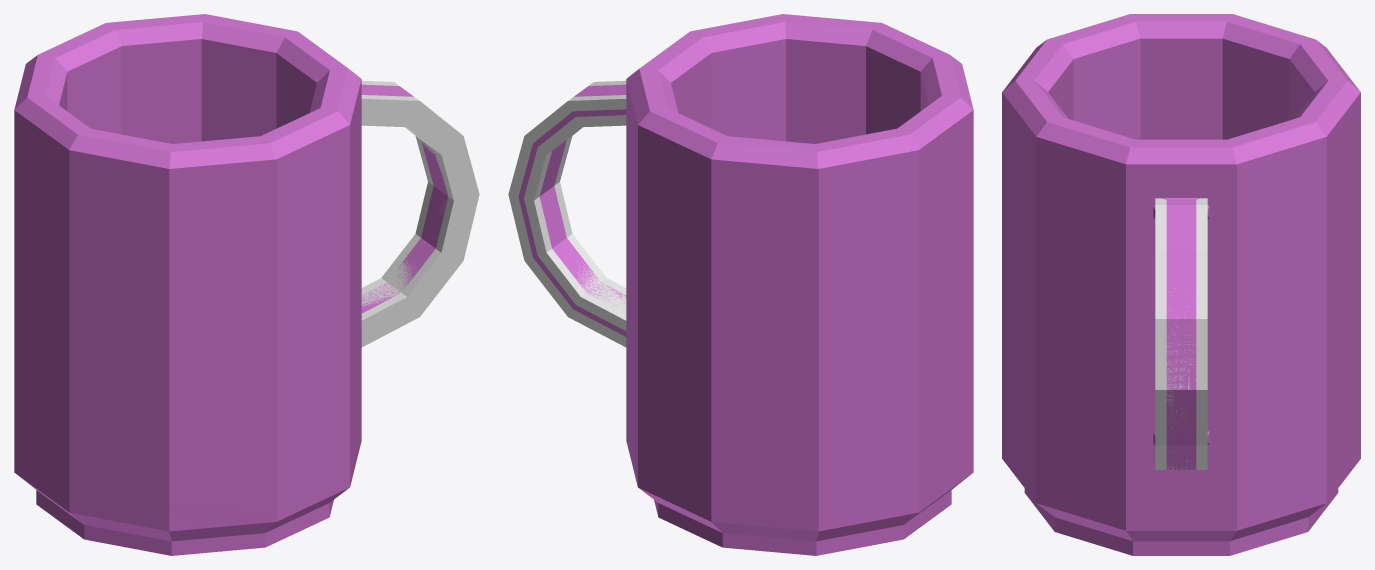
Rendered from cup_1.fbx.
3 renders of one model, left to right at view 1: azimuth 30°, elevation 25°; view 2: azimuth 150°, elevation 25°; view 3: azimuth 270°, elevation 25°, orthographic.
Visible parts, largest first — view 1: Circle, Plane; view 2: Circle, Plane; view 3: Circle, Plane.
Part boxes in pixels (x1=…): Circle: x1=14, y1=14, x2=448, y2=555; Plane: x1=361, y1=80, x2=479, y2=347; Circle: x1=518, y1=14, x2=973, y2=555; Plane: x1=508, y1=80, x2=626, y2=347; Circle: x1=1002, y1=14, x2=1360, y2=555; Plane: x1=1155, y1=198, x2=1207, y2=469.
Bounding box in the file's own units: 276 × 254 × 200.
1 material, 1 textured.
